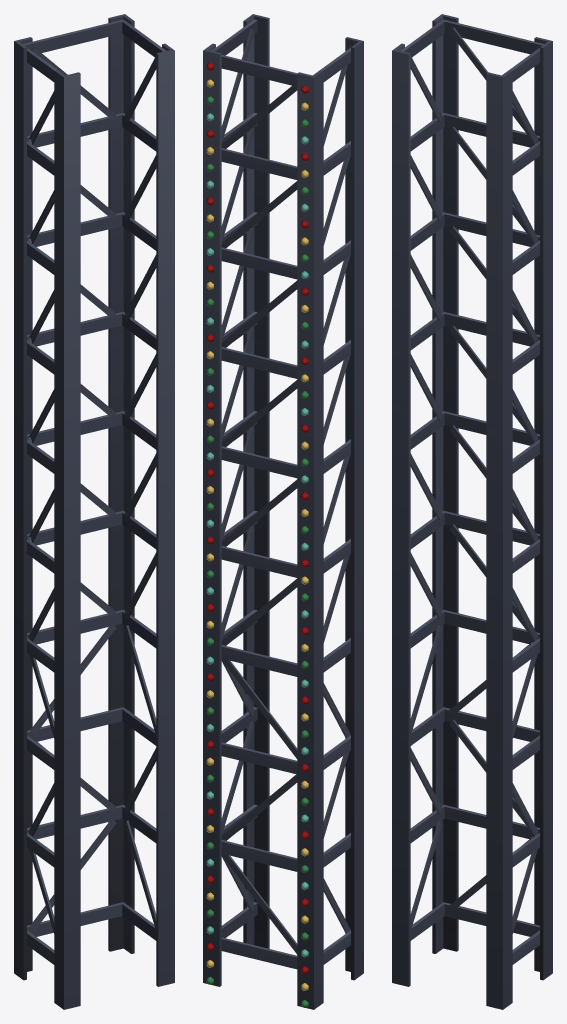
File: squidgame_props_frame1.fbx
The picture shows the model from 3 angles, left to right: view 1: azimuth 30°, elevation 25°; view 2: azimuth 150°, elevation 25°; view 3: azimuth 330°, elevation 25°; orthographic projection.
Visible parts, largest first — view 1: squidgame_props_frame1; view 2: squidgame_props_frame1, squidgame_props_frame1_light; view 3: squidgame_props_frame1.
Boxes of the visible parts, x1,y1,x2,y2 form: squidgame_props_frame1: (14, 14, 174, 1009); squidgame_props_frame1: (203, 14, 363, 1009); squidgame_props_frame1_light: (206, 62, 308, 1007); squidgame_props_frame1: (392, 14, 552, 1009).
Size of the model in its own units: 1.42 by 11.37 by 1.15.
